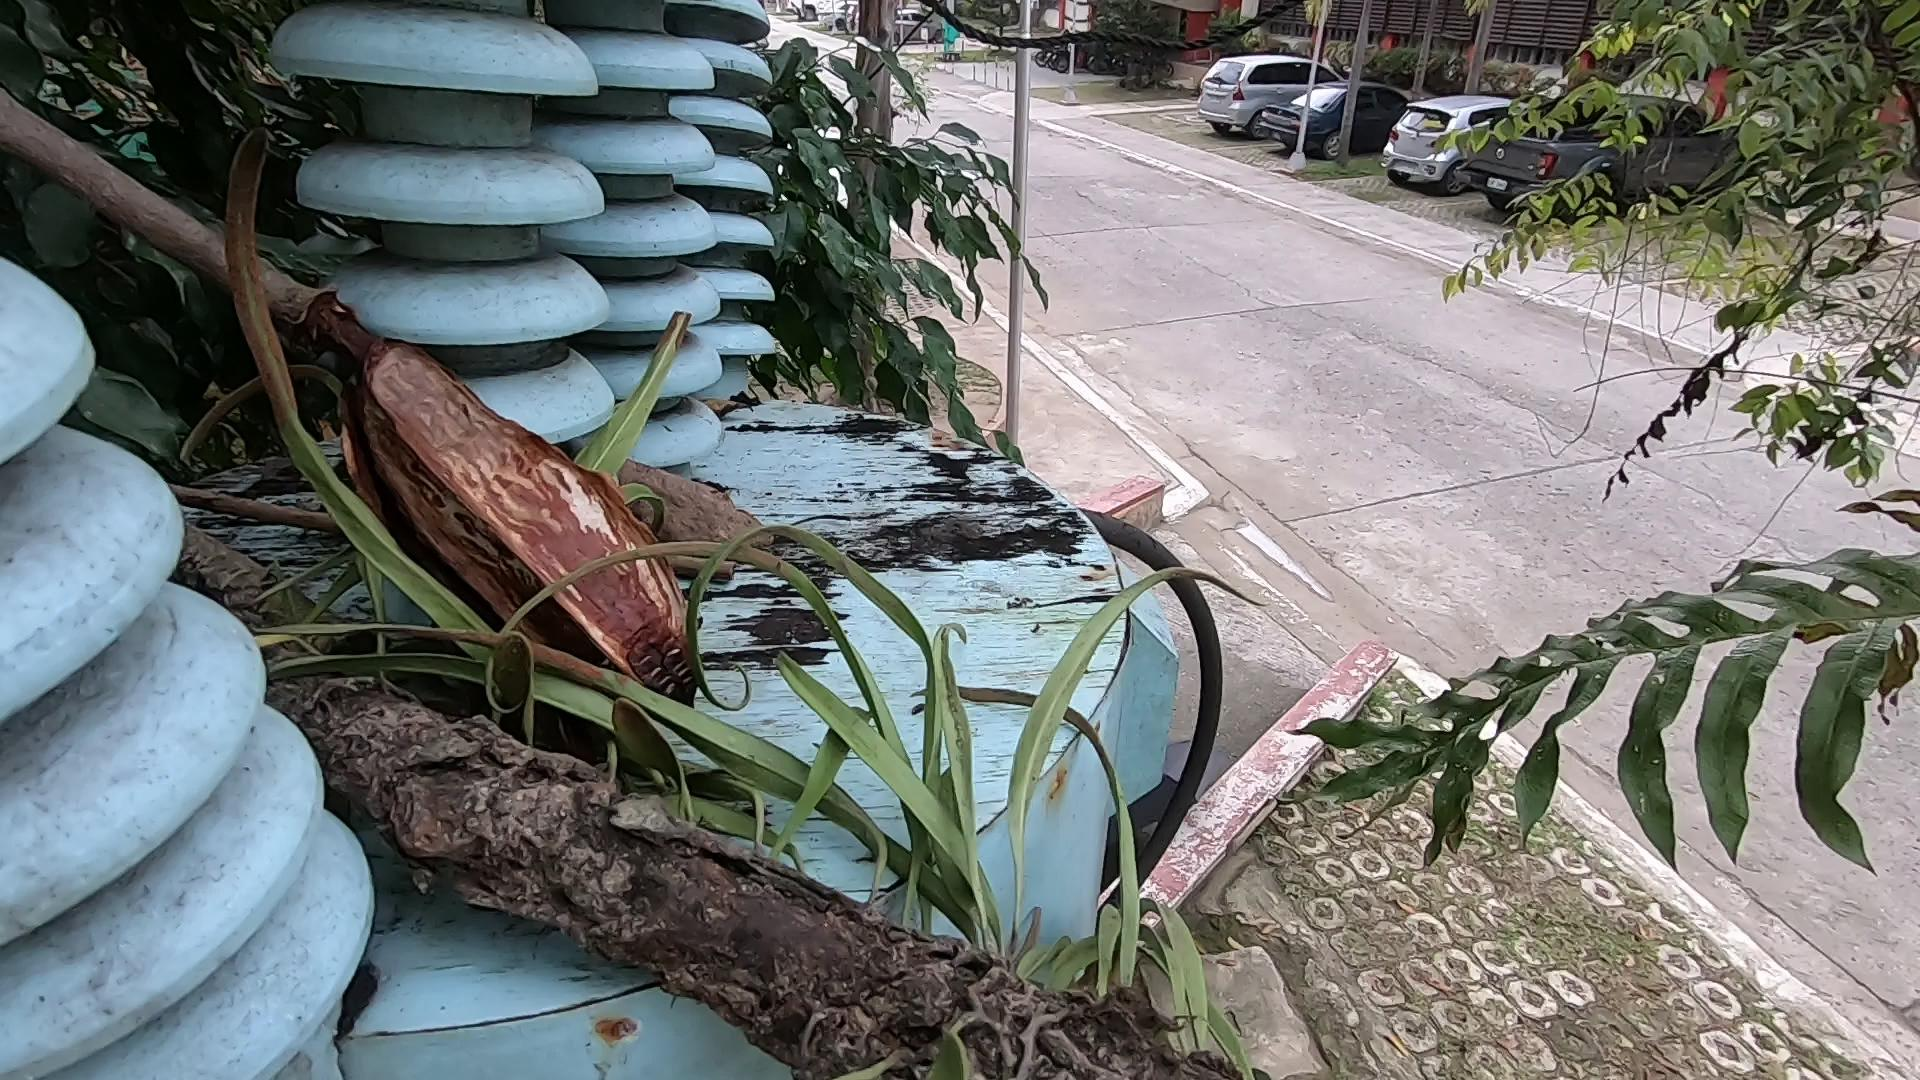branch with leaves: (218, 563, 1113, 1080)
leaf: (673, 369, 783, 465)
mahogany fruit: (326, 323, 665, 680), (578, 444, 791, 584)
tree branch: (47, 1, 355, 481), (152, 480, 758, 601)
